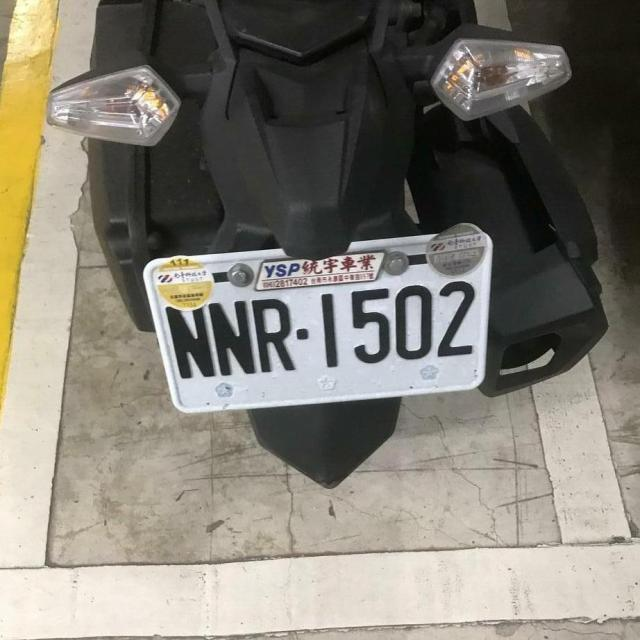W: (138, 226, 507, 421)
